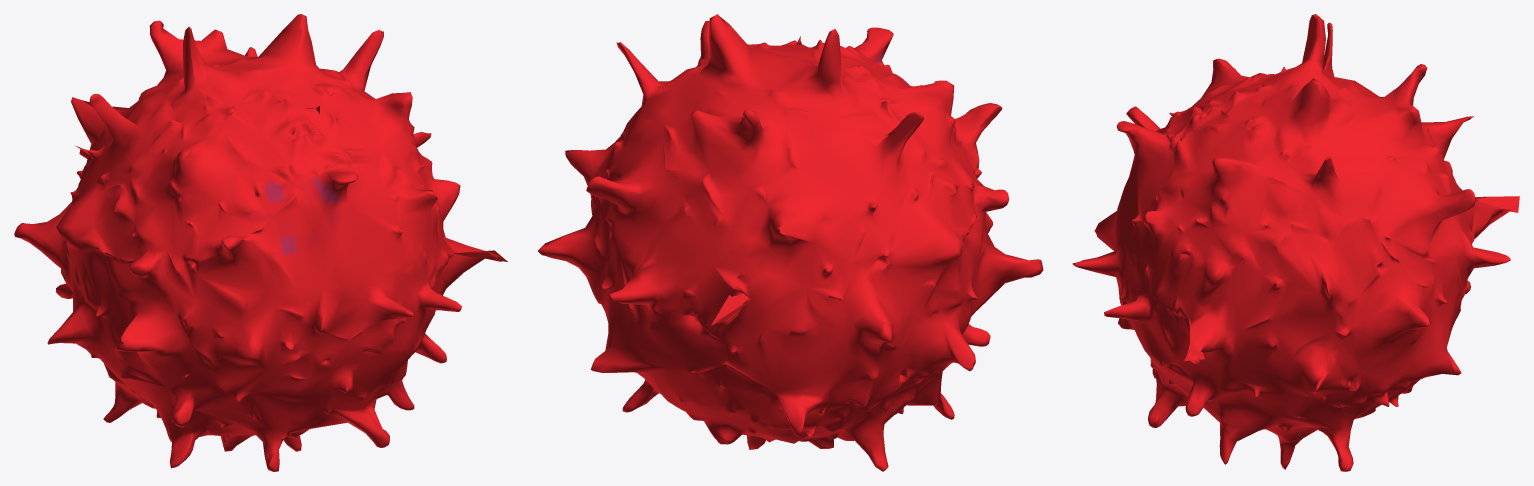
File: virus.glb
The picture shows the model from 3 angles, left to right: view 1: azimuth 30°, elevation 25°; view 2: azimuth 150°, elevation 25°; view 3: azimuth 270°, elevation 25°; orthographic projection. The views are drawn at different scales.
Visible parts, largest first — view 1: node_id8; view 2: node_id8; view 3: node_id8.
Boxes of the visible parts, x1,y1,x2,y2 form: node_id8: (14, 14, 507, 471); node_id8: (538, 14, 1043, 471); node_id8: (1072, 14, 1519, 471).
Size of the model in its own units: 0.0229 by 0.0245 by 0.0242.
1 material, 1 textured.
